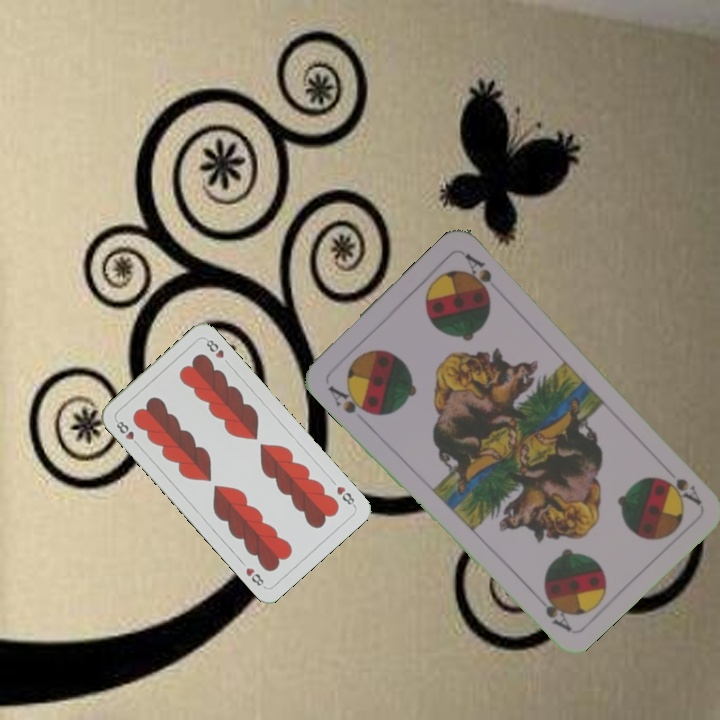H8: (111, 415, 142, 449), (333, 482, 358, 509)
SA: (653, 472, 704, 509), (324, 381, 375, 417)
